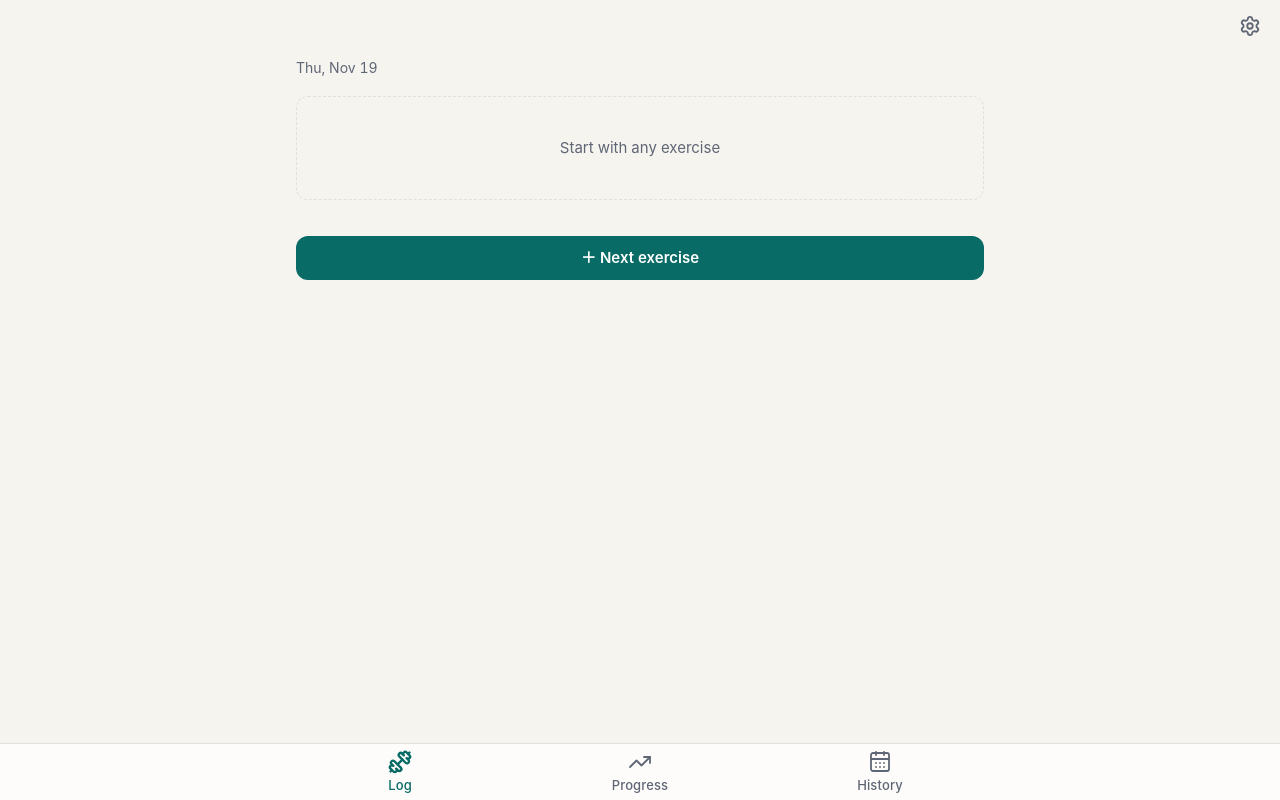
Scenario: over the settings sheet (wave 3 review) › Undo and Dismiss stay reachable by assistive tech while the sheet is open
Step 1. Click the button named "Settings" → (1250, 26), box [1228, 4, 1272, 48]
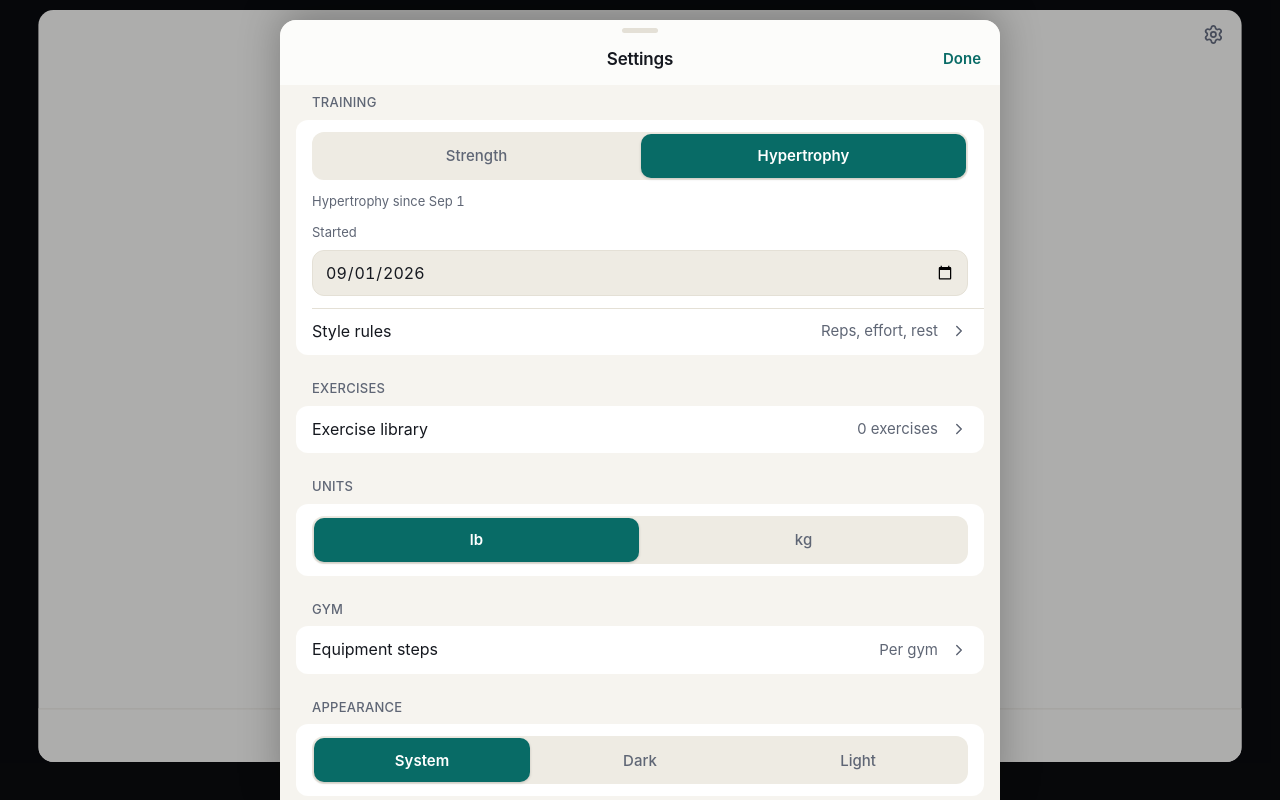
Now the element that starts with "Thu, Nov 19" has attribute inert
